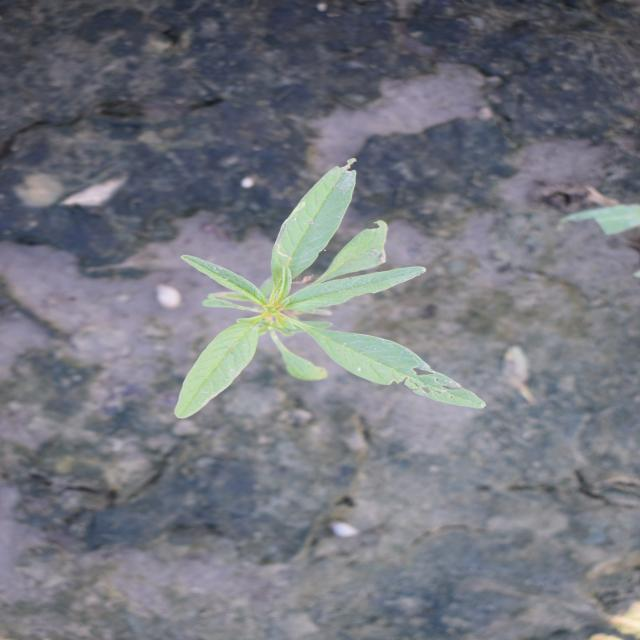Waterhemp: (170, 155, 490, 421)
